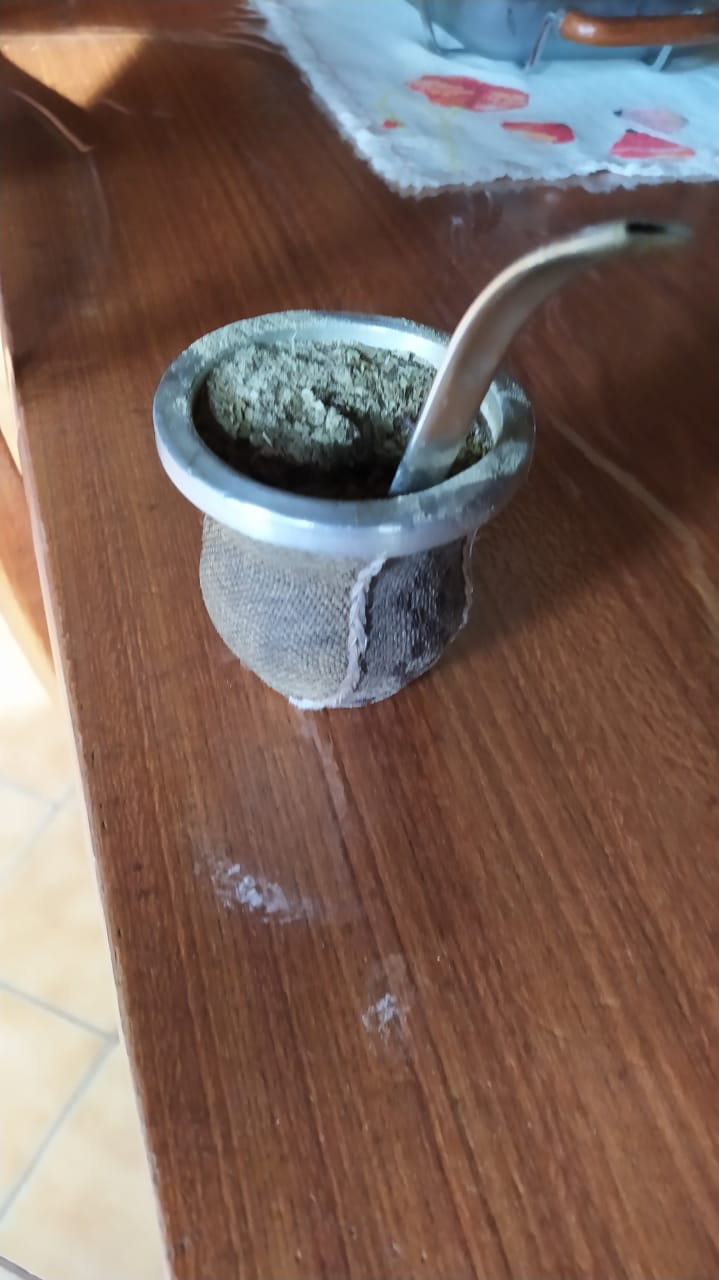madera: (144, 203, 698, 726)
mate: (142, 201, 696, 724)
